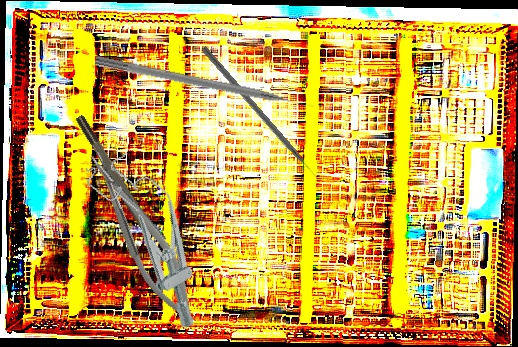Fixation Ring: (72, 109, 174, 263)
Hook Surgical: (199, 46, 320, 182)
Needle Holder: (81, 141, 206, 333)
Pusher: (94, 54, 316, 115)
Speculum: (79, 139, 231, 337)
